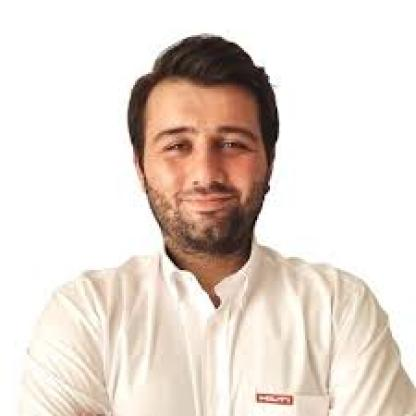person: (127, 34, 282, 254)
